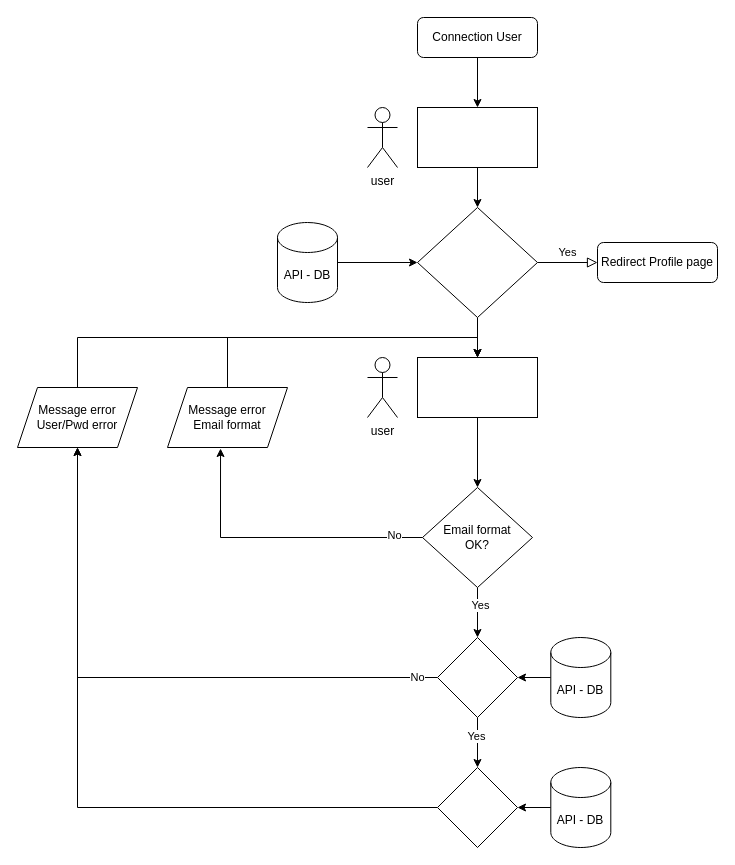
Image size: 735x865. Some labels were removed from this diagram. The centre of each missing label's shape, as x and y in pixels:
Click on 'Connection page': (477,137)
Is user already connected?: (477,262)
Password?: (477,807)
Sign in information Email / Password: (477,387)
User exist?: (477,677)
